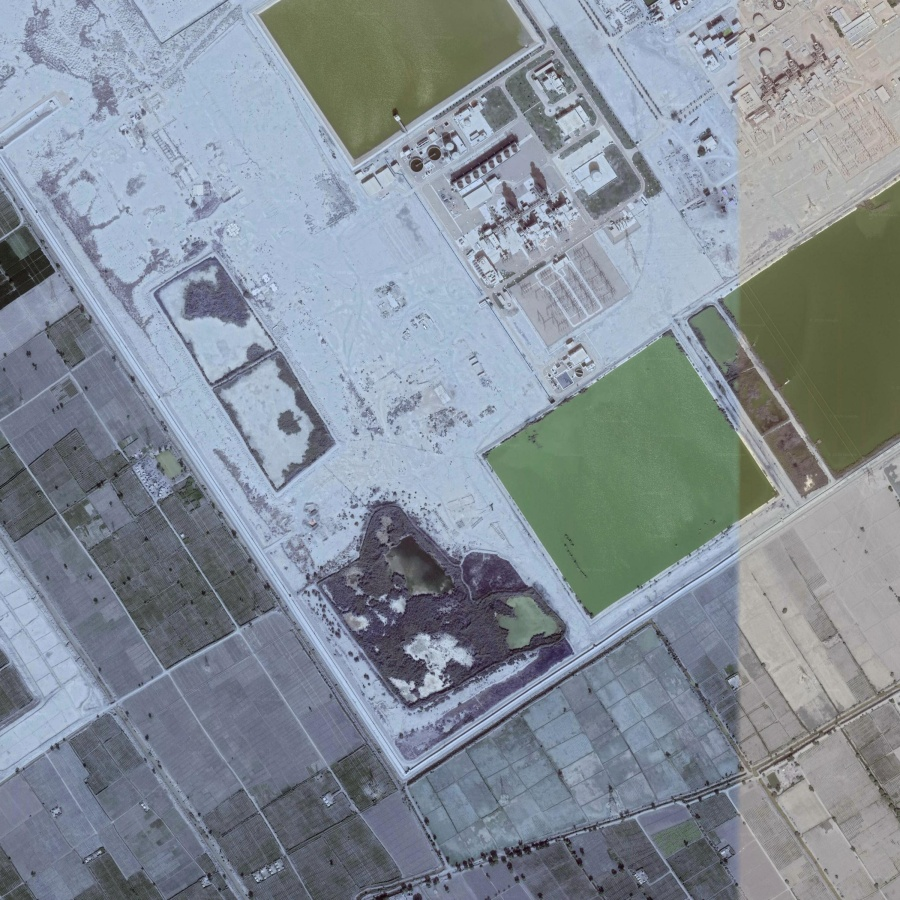PowerPlant: (406, 58, 648, 379)
